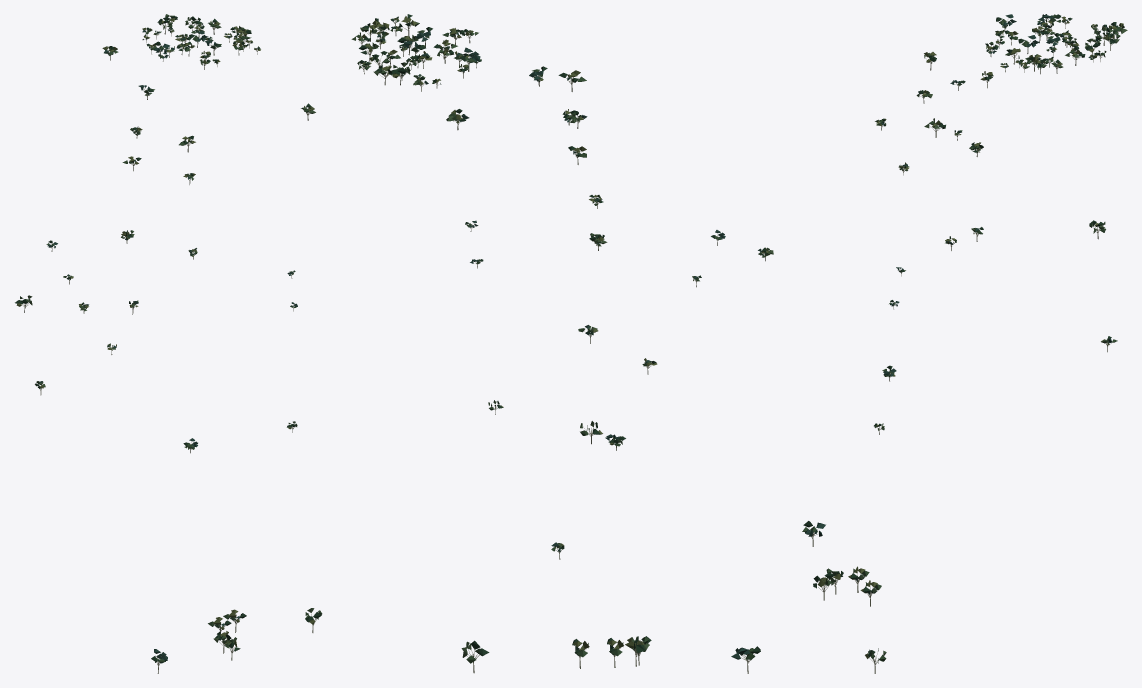
Rendered from forest_22_22.dae.
3 views of the same model, side by side, from view 1: azimuth 30°, elevation 25°; view 2: azimuth 150°, elevation 25°; view 3: azimuth 270°, elevation 25° (orthographic). The views are drawn at different scales.
Parts seen in each view (by area): view 1: Node; view 2: Node; view 3: Node.
Boxes of the visible parts, x1,y1,x2,y2 form: Node: (15, 14, 322, 673); Node: (351, 14, 773, 673); Node: (802, 14, 1127, 673).
Bounding box in the file's own units: 9.73 × 9.4 × 19.75.
